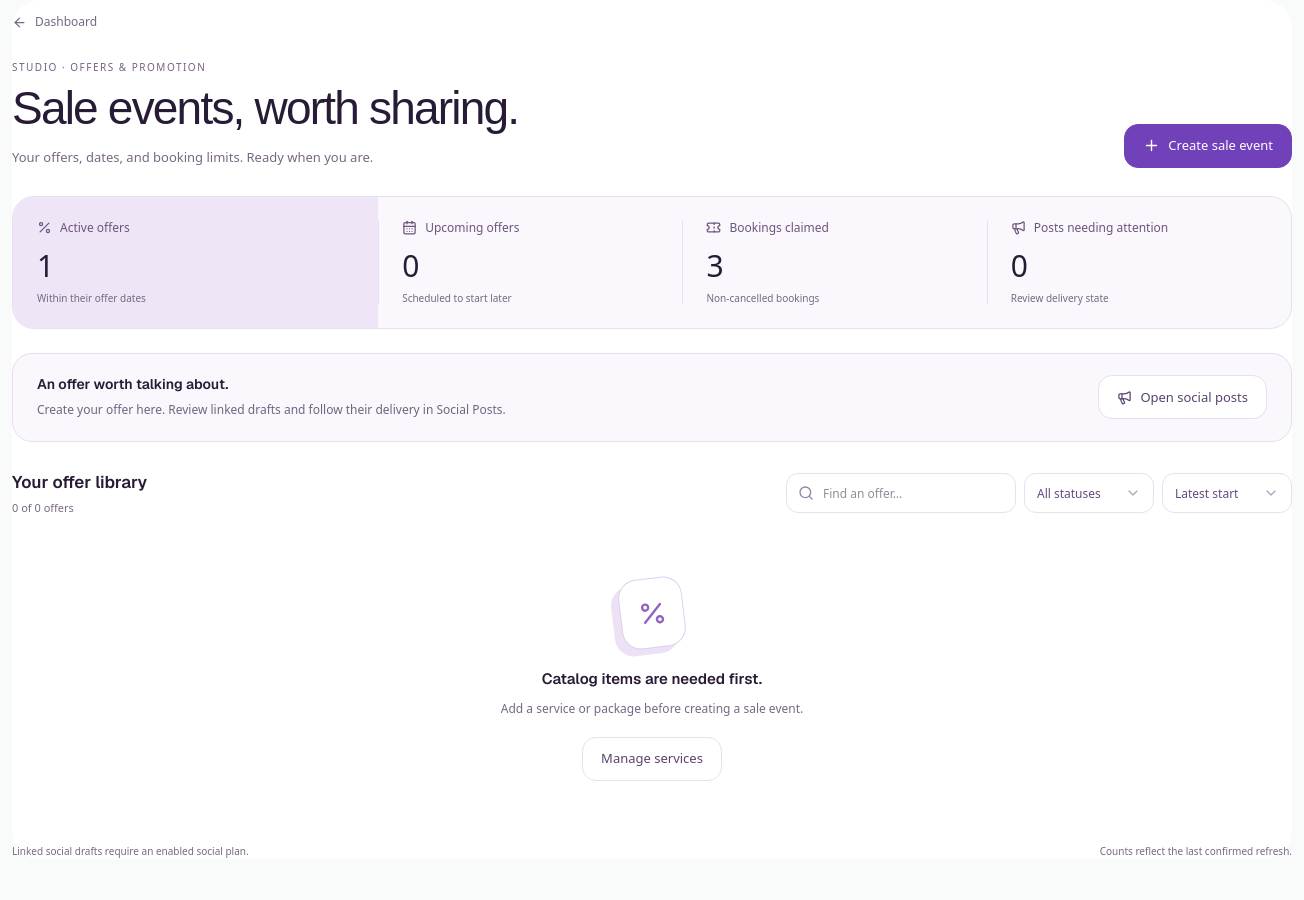
Test: redesign sale events › uses a styled status menu and offers a catalog link when no selections exist
Check: the button "Create sale event" is disabled, box [1124, 124, 1292, 168]
Step 1. Press ArrowDown in the dropdown named "Filter sale events by status", box [1024, 473, 1154, 513]
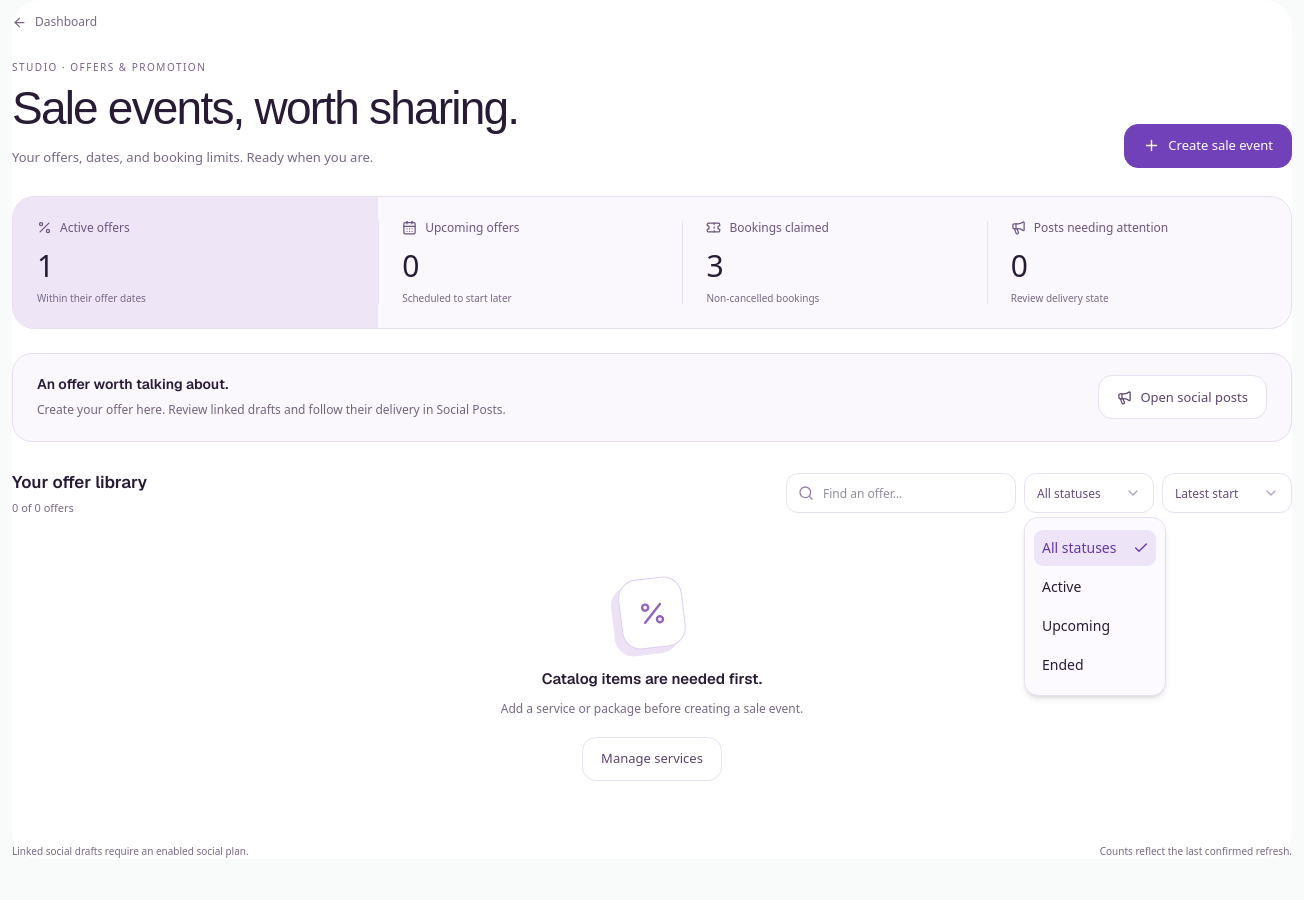
Step 2. Click the option "Upcoming" → (1076, 626), box [1042, 616, 1110, 635]
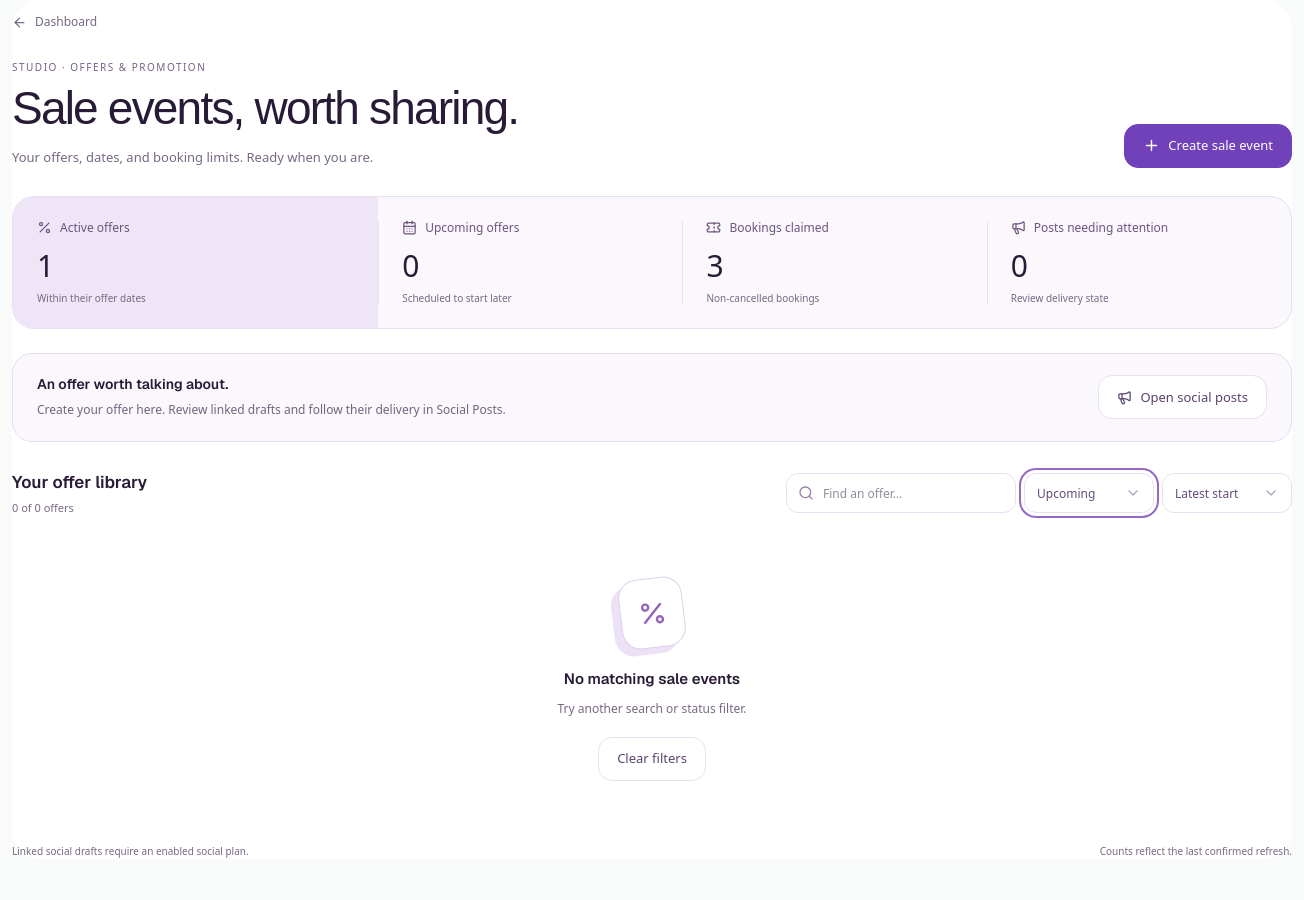
Check: the heading "No matching sale events" is shown, box [558, 668, 746, 691]
